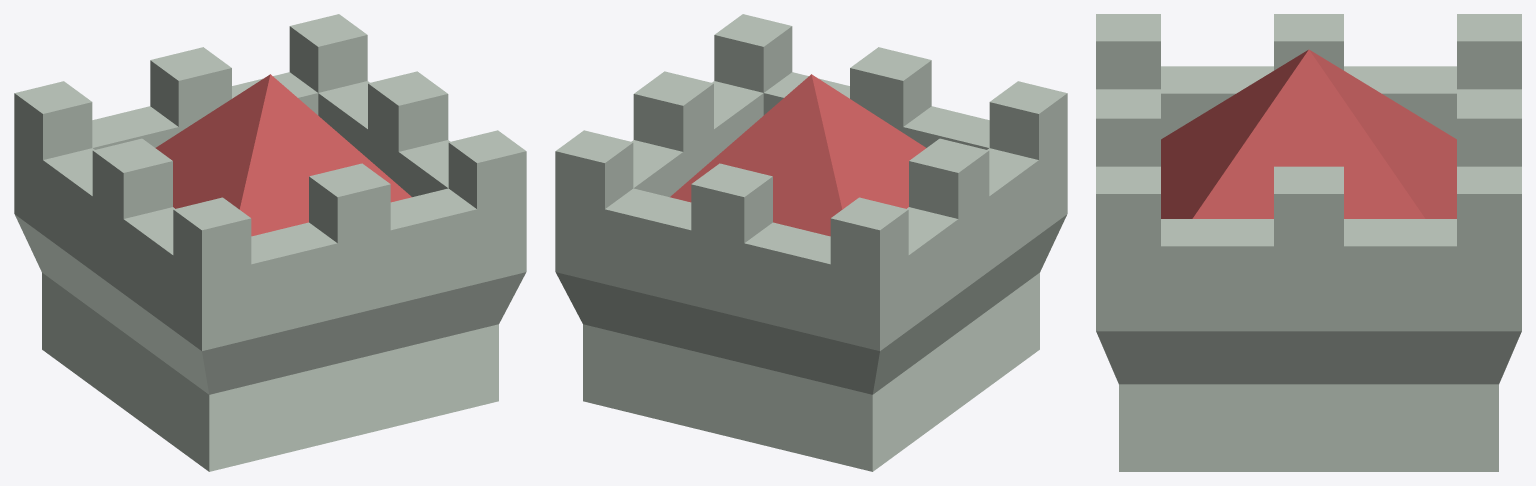
The model's file is tile_006.fbx.
3 renders of one model, left to right at view 1: azimuth 30°, elevation 25°; view 2: azimuth 150°, elevation 25°; view 3: azimuth 270°, elevation 25°, orthographic. The views are drawn at different scales.
Visible parts, largest first — view 1: tile_006, Group; view 2: tile_006, Group; view 3: tile_006, Group.
Boxes of the visible parts, <box> form: tile_006: <box>14,14,526,471</box>; Group: <box>155,74,411,236</box>; tile_006: <box>555,14,1067,471</box>; Group: <box>670,74,926,236</box>; tile_006: <box>1096,14,1521,471</box>; Group: <box>1161,49,1456,218</box>.
Size of the model in its own units: 6.61 by 5.86 by 6.61.
